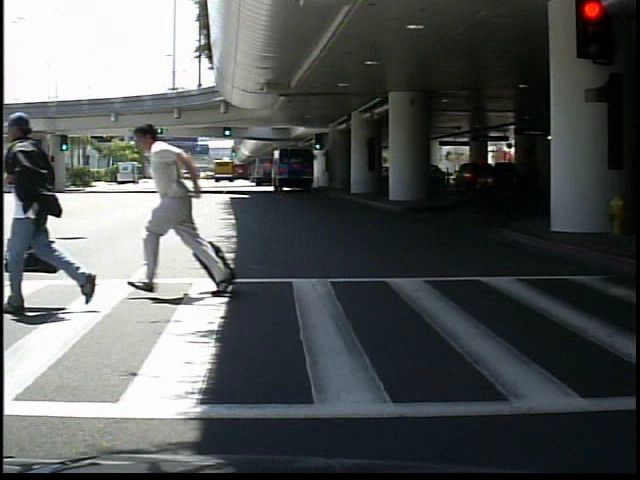person: (14, 106, 104, 316), (143, 119, 221, 298)
